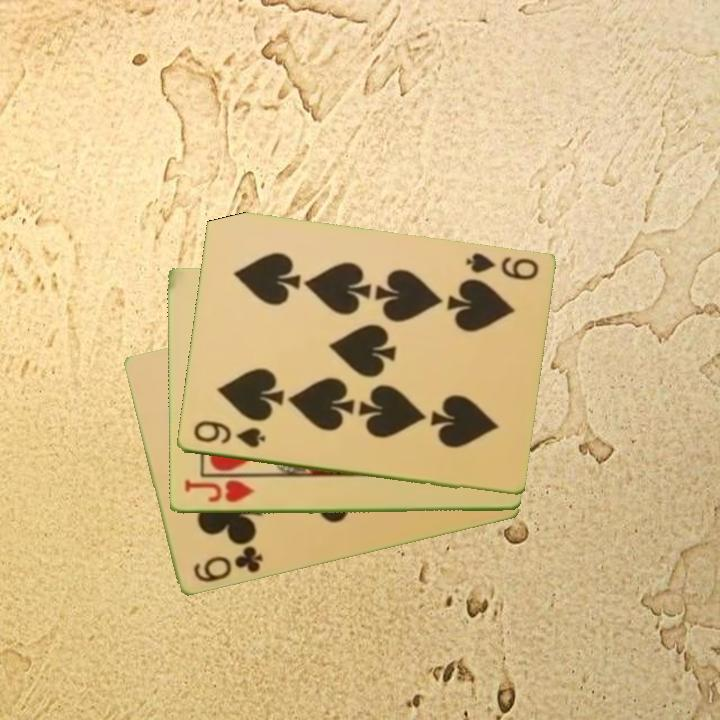6c: (189, 543, 266, 586)
9s: (461, 249, 541, 284), (189, 417, 268, 451)
Jh: (181, 476, 257, 506)
